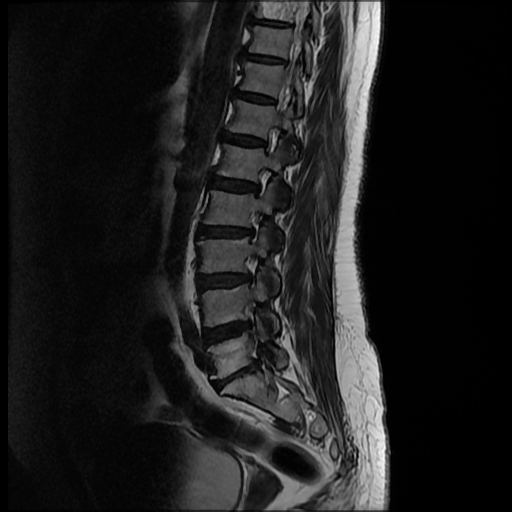LFS0: (233, 203, 273, 245), (246, 160, 281, 204), (236, 247, 268, 295)
